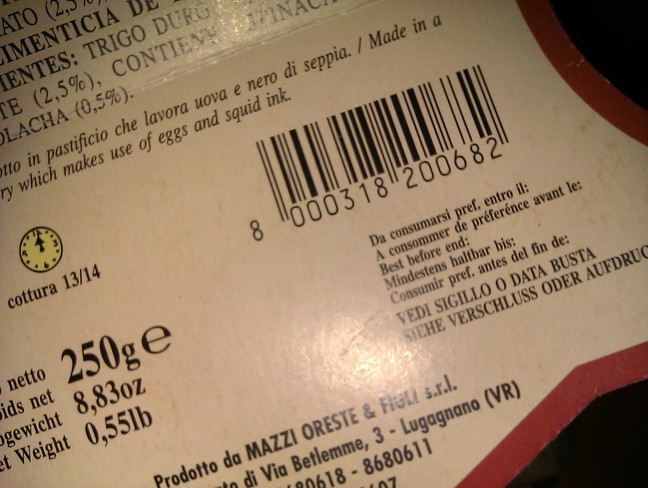barcode: (214, 64, 530, 240)
